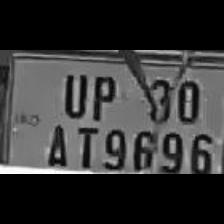0: (171, 72, 203, 124)
3: (143, 71, 171, 123)
6: (184, 128, 216, 172), (128, 125, 156, 171)
9: (156, 127, 184, 173), (100, 124, 126, 172)
A: (40, 120, 68, 168)
P: (86, 70, 118, 120)
T: (69, 120, 97, 170)
U: (58, 68, 88, 116)
